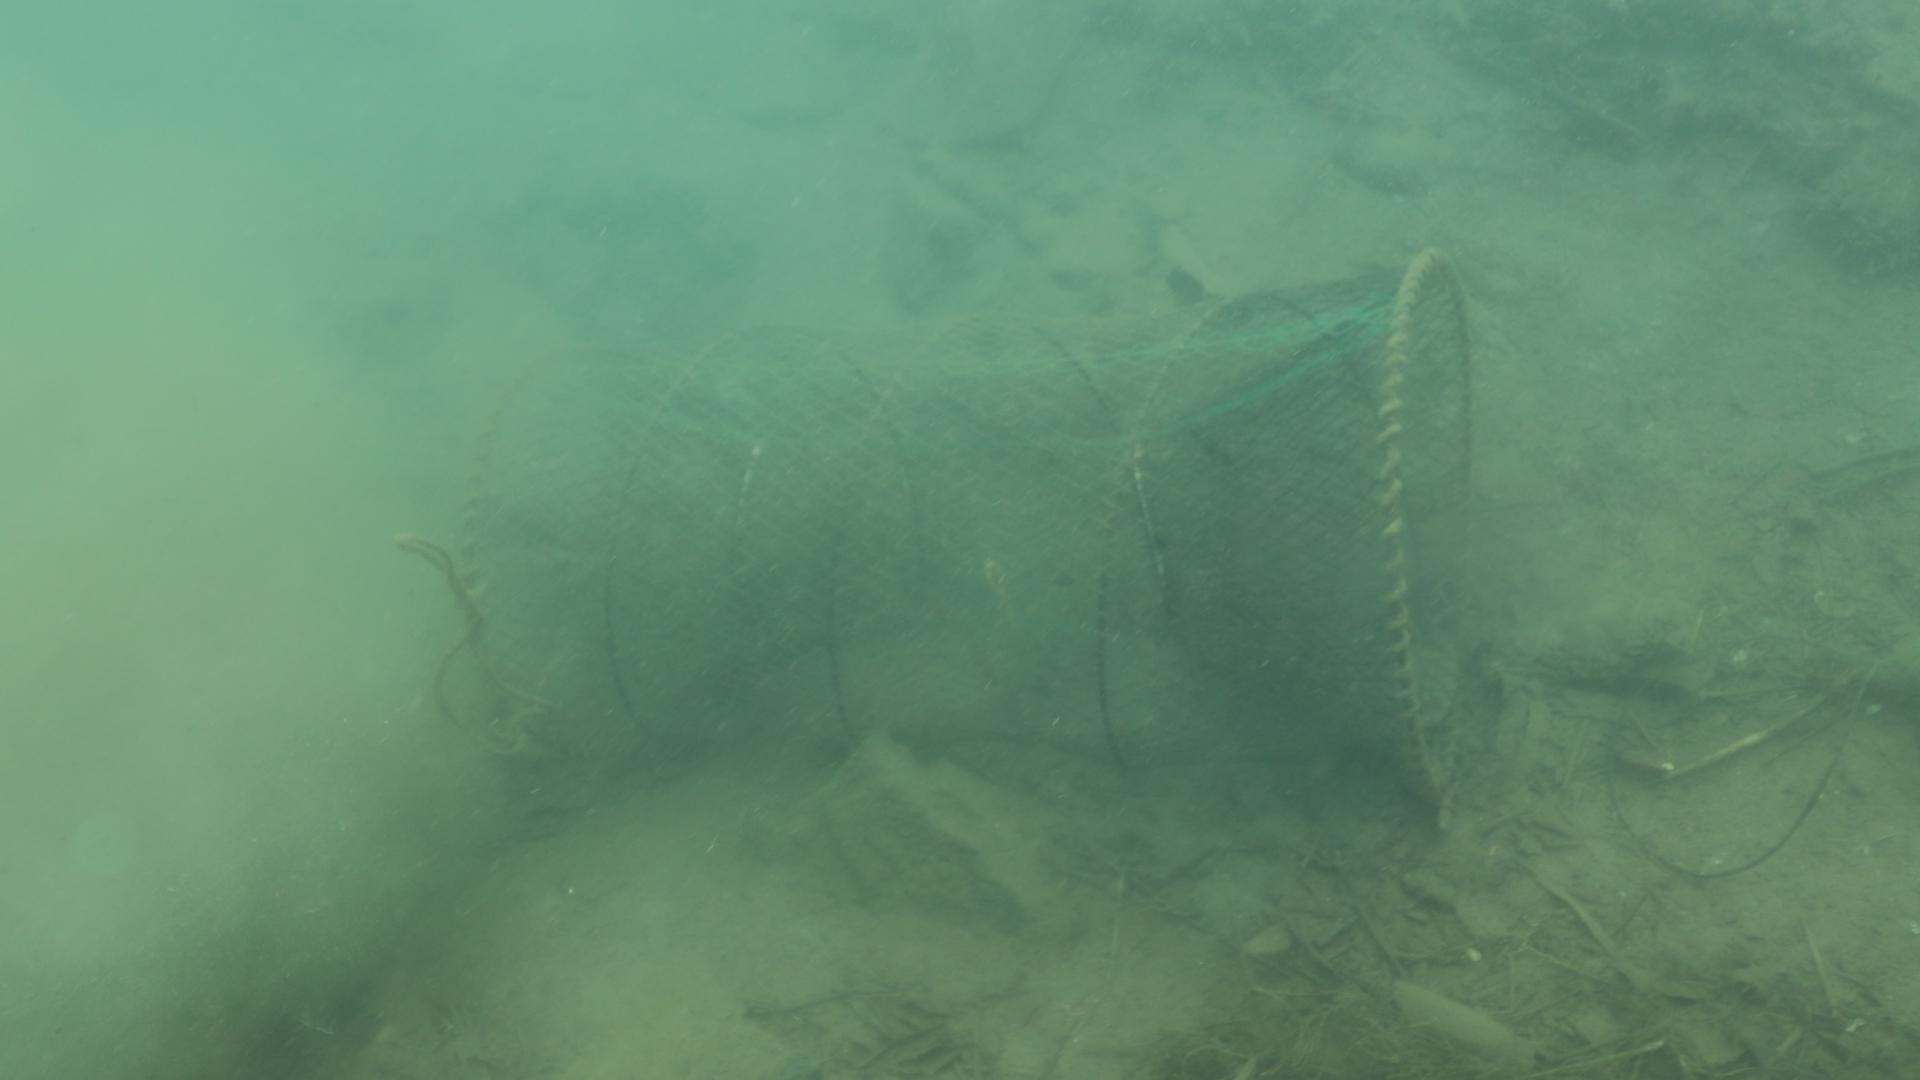bundle of ropes: (396, 524, 495, 773)
spring fish trap: (458, 243, 1476, 800)
